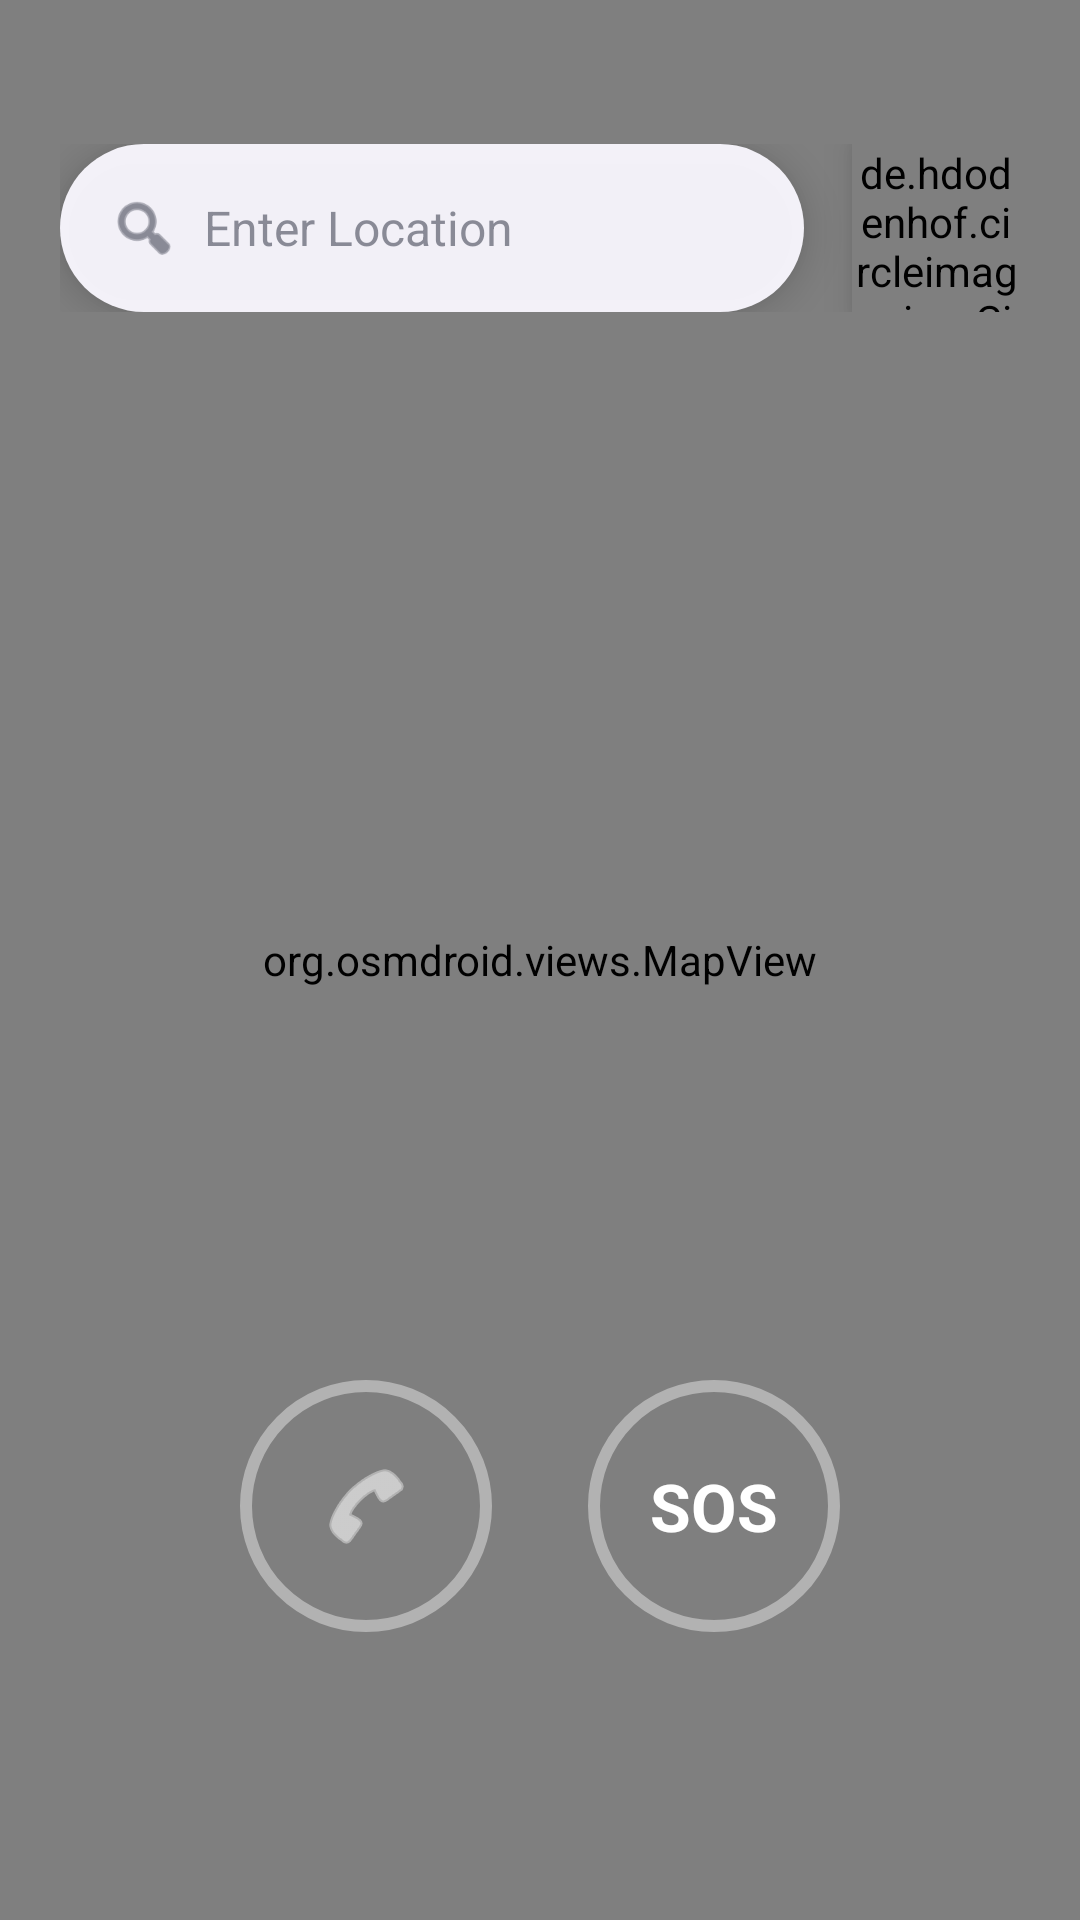

Point at icon controls on the screen. Image size 1080x1920, points as (x=x, y=y).
Emergency Call: (x=366, y=1506)
